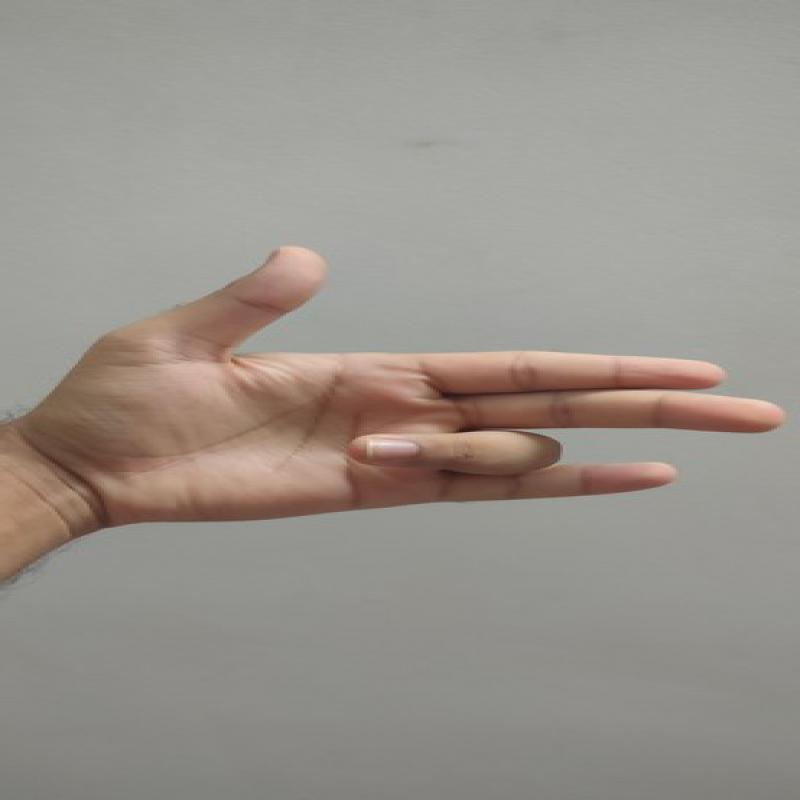Pathaaka: (61, 234, 785, 539)
